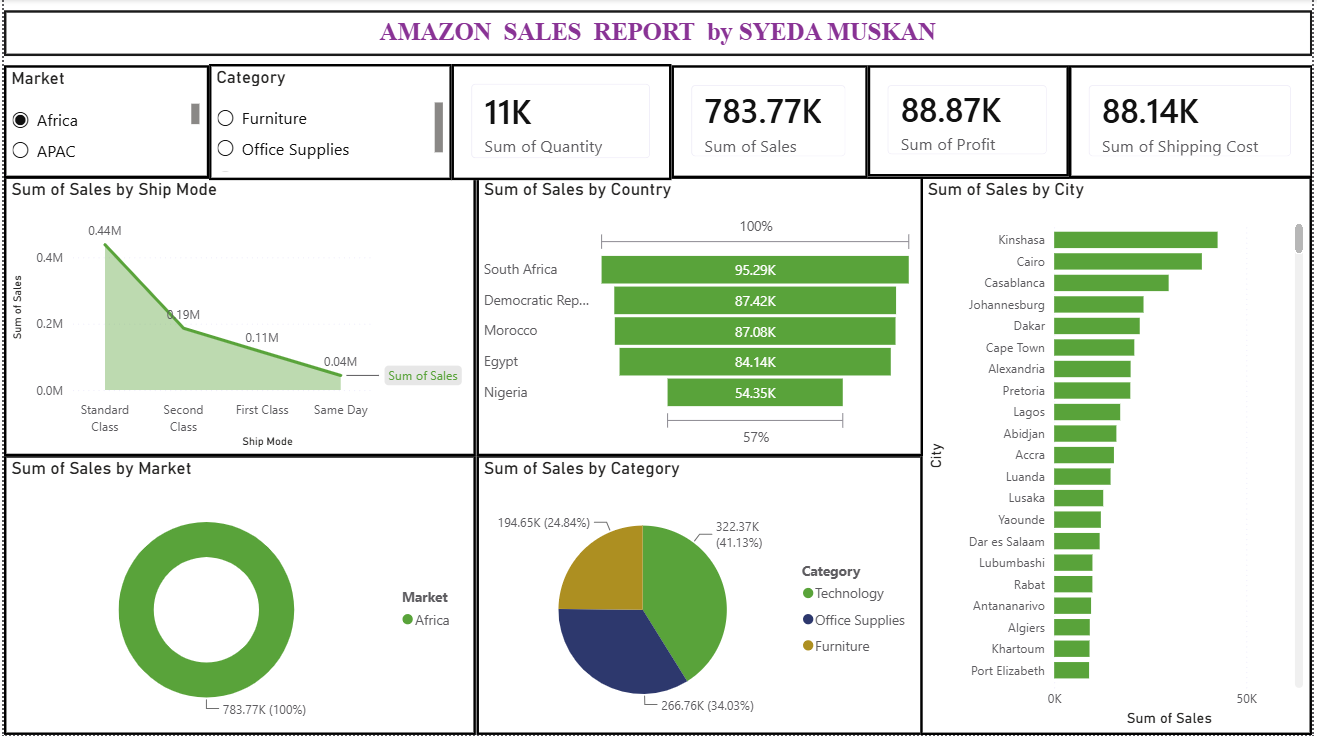

What the dashboard file says about the page in this screenshot:
{"tool":"powerbi","page":{"name":"Page 1","canvas":[1280,720],"ordinal":0},"visuals":[{"type":"donutChart","fields":{"Category":["Orders.Market"],"Y":["Sum(Orders.Sales)"]},"box":[0,446.7,461.7,273.3],"z":0},{"type":"pieChart","fields":{"Category":["Orders.Category"],"Y":["Sum(Orders.Sales)"]},"box":[461.7,446.7,436.7,273.3],"z":1000},{"type":"lineChart","fields":{"Category":["Orders.Ship Mode"],"Y":["Sum(Orders.Sales)"]},"box":[0,173.3,461.7,273.3],"z":2000},{"type":"barChart","fields":{"Category":["Orders.City"],"Y":["Sum(Orders.Sales)"]},"box":[896.7,173.3,383.3,546.7],"z":3000},{"type":"funnel","fields":{"Category":["Orders.Country"],"Y":["Sum(Orders.Sales)"]},"box":[461.7,173.3,436.7,273.3],"z":4000},{"type":"textbox","box":[0,11.2,1280,45],"z":5000},{"type":"listSlicer","fields":{"Values":["Orders.Category"]},"box":[200.5,63.6,237.2,113.7],"z":6000},{"type":"cardVisual","fields":{"Data":["Sum(Orders.Quantity)"]},"box":[438.3,63.3,215,113.3],"z":7000},{"type":"cardVisual","fields":{"Data":["Sum(Orders.Sales)"]},"box":[653.3,65,191.7,110],"z":8000},{"type":"cardVisual","fields":{"Data":["Sum(Orders.Profit)"]},"box":[845,64.8,196.9,108.8],"z":9000},{"type":"cardVisual","fields":{"Data":["Sum(Orders.Shipping Cost)"]},"box":[1041.9,64.8,238.5,110.1],"z":10000},{"type":"listSlicer","fields":{"Values":["Orders.Market"]},"box":[0,64.8,200.5,110.1],"z":11000}]}

Visuals, with their boxes in screenshot pixels (x1, y1, x2, y2), scaled from the page's 1280x720 canvas onto the 1317x737 screenshot:
donutChart - Orders.Market x Sum(Orders.Sales): bbox=[0, 457, 475, 736]
pieChart - Orders.Category x Sum(Orders.Sales): bbox=[475, 457, 924, 736]
lineChart - Orders.Ship Mode x Sum(Orders.Sales): bbox=[0, 177, 475, 457]
barChart - Orders.City x Sum(Orders.Sales): bbox=[923, 177, 1316, 736]
funnel - Orders.Country x Sum(Orders.Sales): bbox=[475, 177, 924, 457]
textbox: bbox=[0, 11, 1316, 58]
listSlicer - Orders.Category: bbox=[206, 65, 450, 181]
cardVisual - Sum(Orders.Quantity): bbox=[451, 65, 672, 181]
cardVisual - Sum(Orders.Sales): bbox=[672, 67, 869, 179]
cardVisual - Sum(Orders.Profit): bbox=[869, 66, 1072, 178]
cardVisual - Sum(Orders.Shipping Cost): bbox=[1072, 66, 1316, 179]
listSlicer - Orders.Market: bbox=[0, 66, 206, 179]
